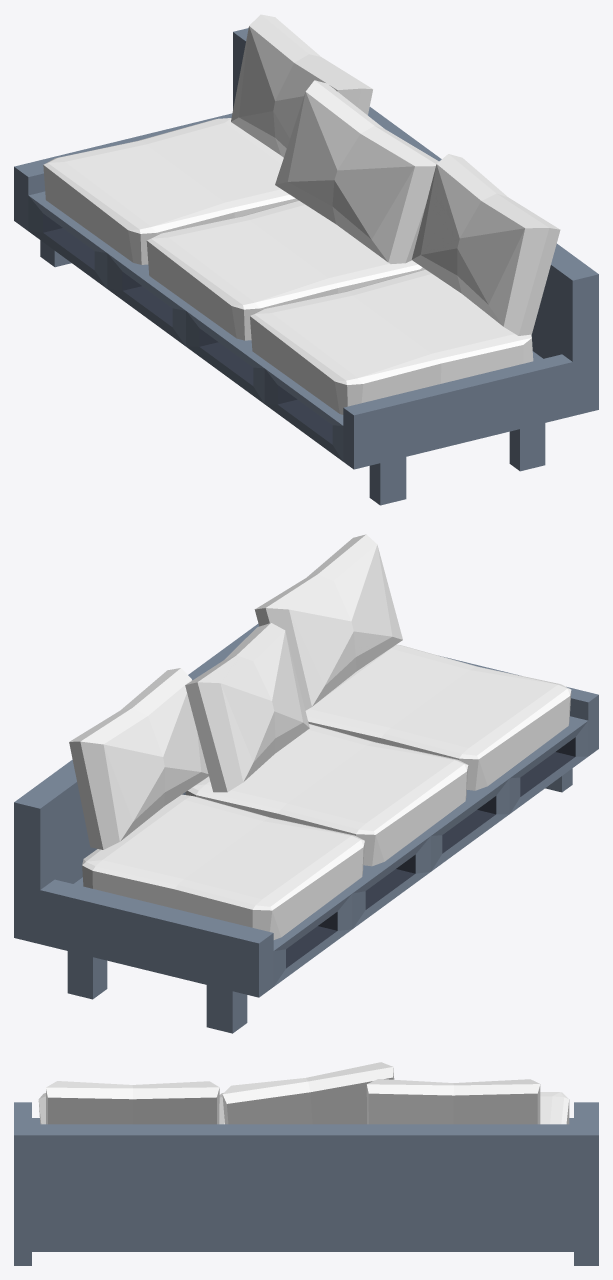
Rendered from Prop_Sofa_GreyPalette.fbx.
3 views of the same model, one above another, from view 1: azimuth 30°, elevation 25°; view 2: azimuth 150°, elevation 25°; view 3: azimuth 270°, elevation 25° (orthographic). The views are drawn at different scales.
Parts seen in each view (by area): view 1: Cube.088; view 2: Cube.088; view 3: Cube.088.
Part boxes in pixels (x1,y1,x2,y2): Cube.088: (14, 14, 598, 505); Cube.088: (14, 534, 598, 1033); Cube.088: (14, 1062, 598, 1265).
Size of the model in its own units: 89.87 by 79.26 by 216.
